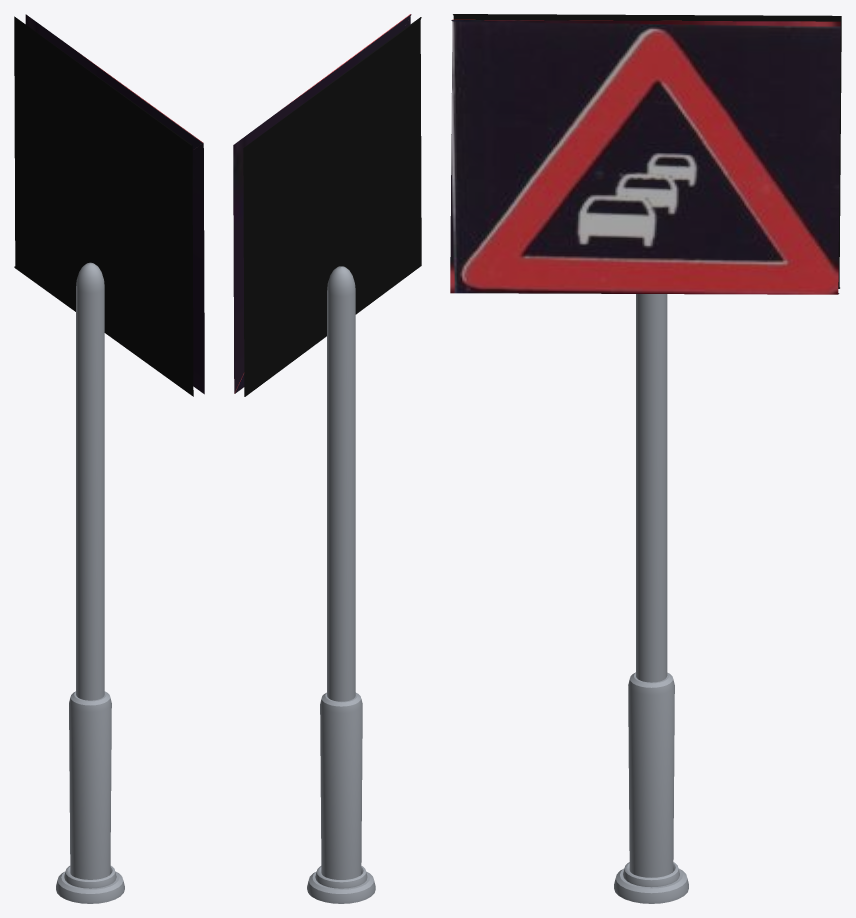
3 views of the same model, side by side, from view 1: azimuth 30°, elevation 25°; view 2: azimuth 150°, elevation 25°; view 3: azimuth 270°, elevation 25° (orthographic). The views are drawn at different scales.
Parts seen in each view (by area): view 1: Cube.001, sign_non_ionizing_radiation_pillar__1_, Cube; view 2: Cube.001, sign_non_ionizing_radiation_pillar__1_, Cube; view 3: Cube, sign_non_ionizing_radiation_pillar__1_, Cube.001.
Boxes of the visible parts, x1,y1,x2,y2 form: Cube.001: (14, 16, 193, 396); sign_non_ionizing_radiation_pillar__1_: (56, 262, 124, 903); Cube: (25, 14, 204, 394); Cube.001: (243, 17, 421, 396); sign_non_ionizing_radiation_pillar__1_: (307, 266, 375, 903); Cube: (233, 14, 411, 393); Cube: (450, 19, 840, 294); sign_non_ionizing_radiation_pillar__1_: (614, 294, 688, 903); Cube.001: (453, 14, 841, 288).
Bounding box in the file's own units: 20 × 258 × 104.
